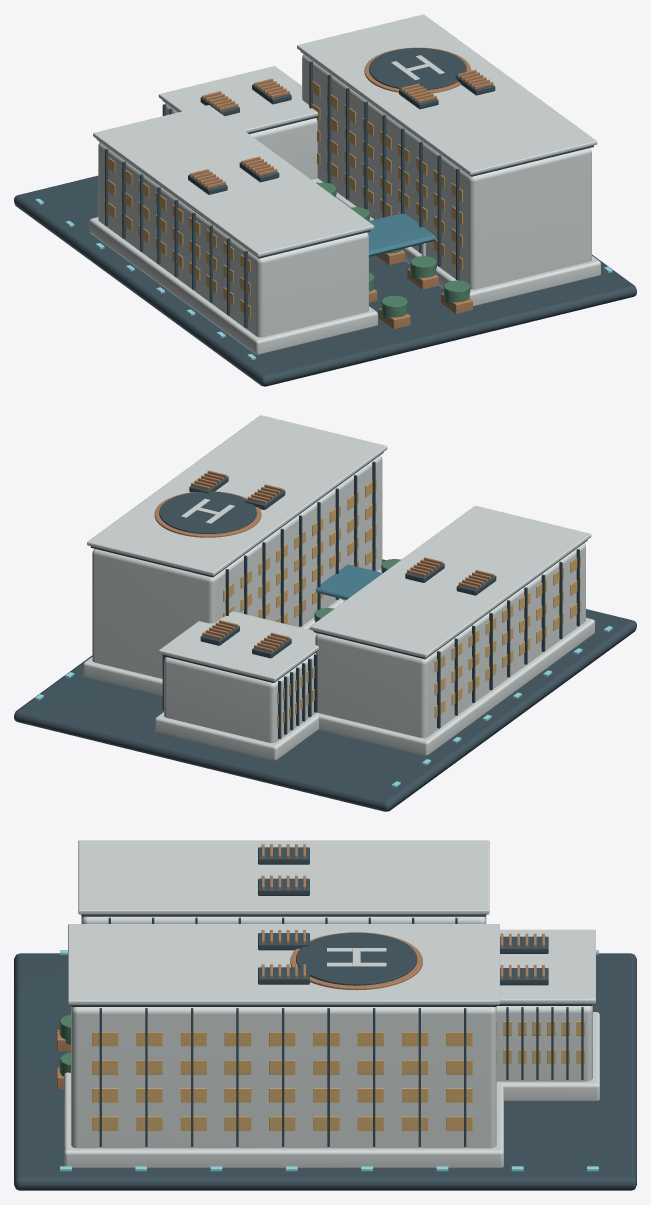
The model's file is CivicHospital112.fbx.
The picture shows the model from 3 angles, top to bottom: view 1: azimuth 30°, elevation 25°; view 2: azimuth 150°, elevation 25°; view 3: azimuth 270°, elevation 25°; orthographic projection. The views are drawn at different scales.
Parts seen in each view (by area): view 1: Rounded hospital wing.001, Terraced medical campus, Metal coping, Metal coping.001, Rounded hospital wing, Recessed podium, Metal coping.002, Helipad surface, Recessed podium.001, Rounded hospital wing.002, Emergency entry canopy, Helipad rim (+3 smaller); view 2: Terraced medical campus, Rounded hospital wing.001, Metal coping, Metal coping.001, Rounded hospital wing, Rounded hospital wing.002, Metal coping.002, Recessed podium, Helipad surface, Recessed podium.002, Recessed podium.001, Emergency entry canopy (+1 smaller); view 3: Rounded hospital wing.001, Terraced medical campus, Metal coping, Metal coping.001, Recessed podium.001, Rounded hospital wing.002, Metal coping.002, Helipad surface, Rounded hospital wing, Recessed podium.002, Roof shadow reveal, Helipad rim (+7 smaller).
Part boxes in pixels (x1,y1,x2,y2): Rounded hospital wing.001: [302, 54, 591, 289]; Terraced medical campus: [14, 175, 636, 386]; Metal coping: [93, 105, 374, 256]; Metal coping.001: [297, 14, 597, 175]; Rounded hospital wing: [98, 142, 368, 337]; Recessed podium: [89, 217, 377, 354]; Metal coping.002: [158, 66, 318, 132]; Helipad surface: [369, 48, 466, 89]; Recessed podium.001: [316, 179, 600, 306]; Rounded hospital wing.002: [165, 103, 317, 179]; Emergency entry canopy: [367, 213, 435, 256]; Helipad rim: [364, 47, 471, 93]; Terraced medical campus: [14, 559, 636, 811]; Rounded hospital wing.001: [92, 455, 382, 678]; Metal coping: [310, 505, 591, 657]; Metal coping.001: [87, 415, 387, 575]; Rounded hospital wing: [315, 543, 585, 738]; Rounded hospital wing.002: [164, 653, 315, 742]; Metal coping.002: [158, 611, 318, 681]; Recessed podium: [318, 618, 594, 755]; Helipad surface: [159, 491, 256, 533]; Recessed podium.002: [155, 712, 318, 760]; Recessed podium.001: [83, 568, 381, 695]; Emergency entry canopy: [315, 564, 382, 599]; Rounded hospital wing.001: [71, 1006, 496, 1148]; Terraced medical campus: [14, 953, 636, 1190]; Metal coping: [78, 840, 489, 914]; Metal coping.001: [68, 924, 499, 1004]; Recessed podium.001: [64, 1072, 503, 1168]; Rounded hospital wing.002: [496, 1005, 592, 1081]; Metal coping.002: [500, 929, 595, 1003]; Helipad surface: [296, 932, 417, 985]; Rounded hospital wing: [81, 916, 486, 923]; Recessed podium.002: [496, 1012, 599, 1101]; Roof shadow reveal: [81, 914, 486, 916]; Helipad rim: [290, 932, 422, 990].
Size of the model in its own units: 1040 by 405 by 1200.
